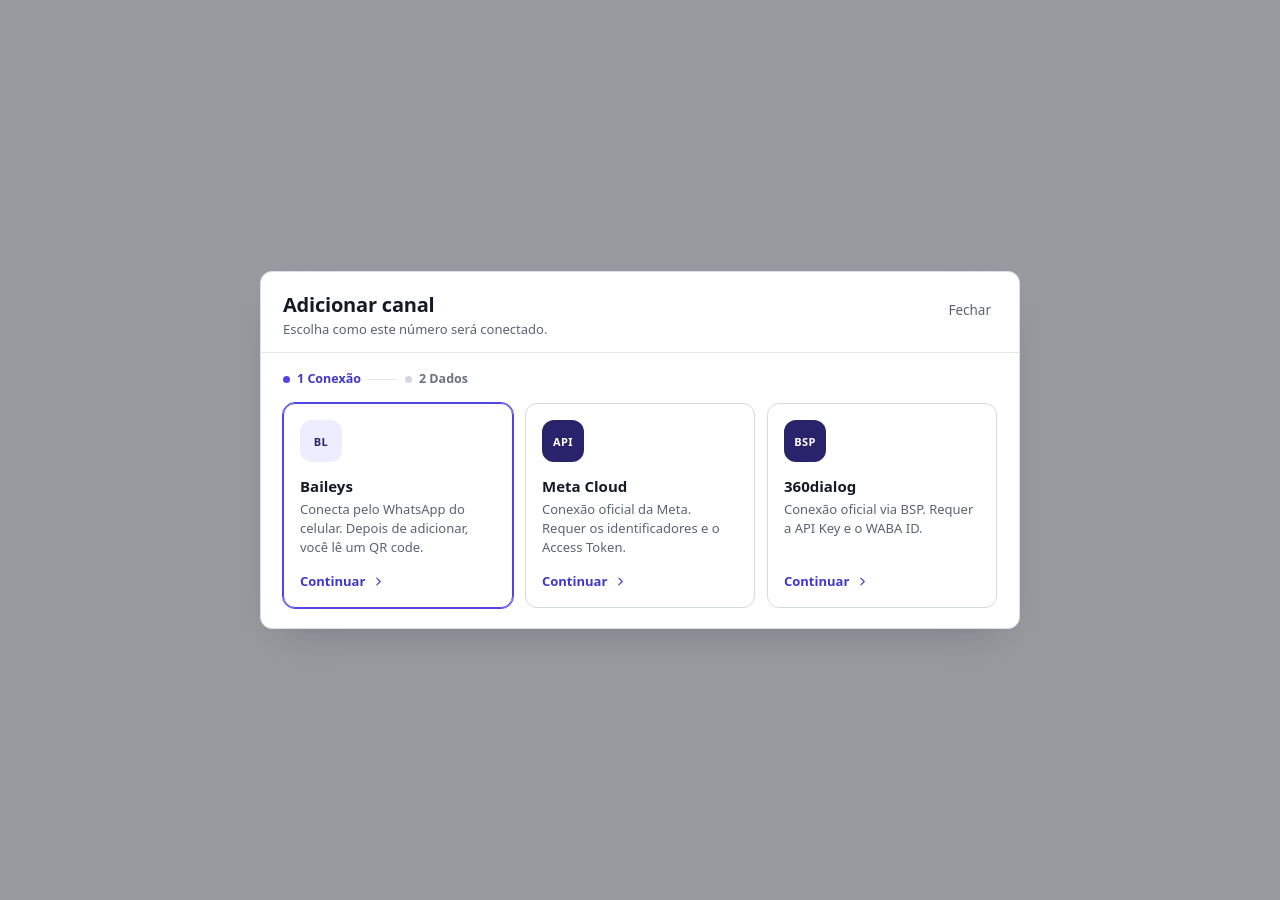
Test case: Adicionar canal: segredos › API Key da 360dialog também
Click the button that starts with "BSP" at (882, 506), box 767,403 -> 997,608
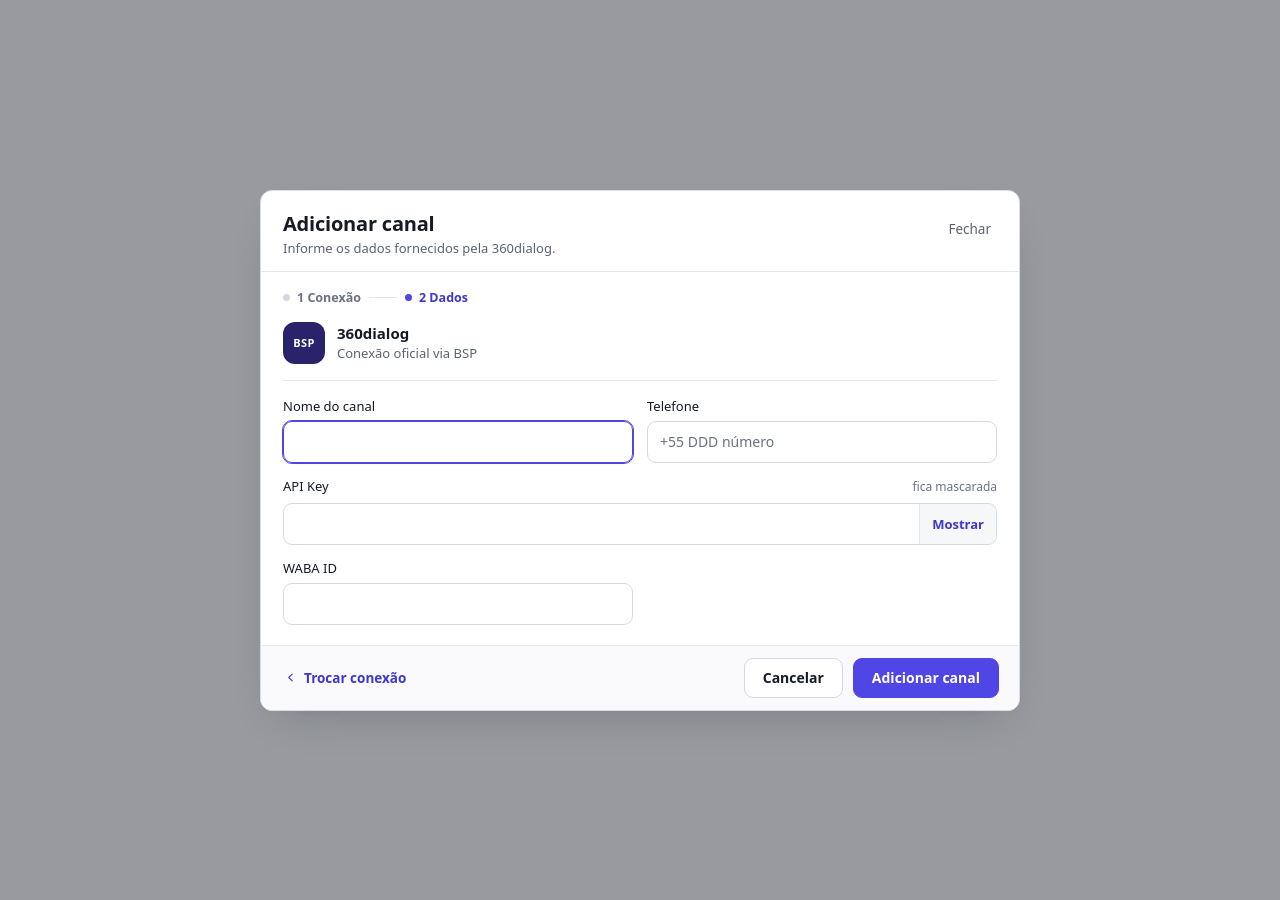
Now the button with aria-label "Mostrar API Key" is shown, box 919,504 -> 996,544
